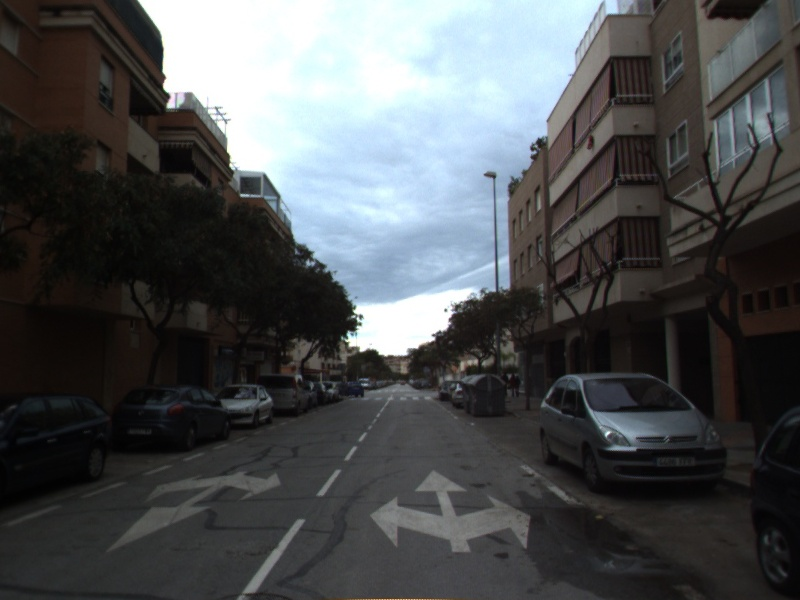STRAIGHT_LEFT_RIGHT: (368, 467, 533, 555)
